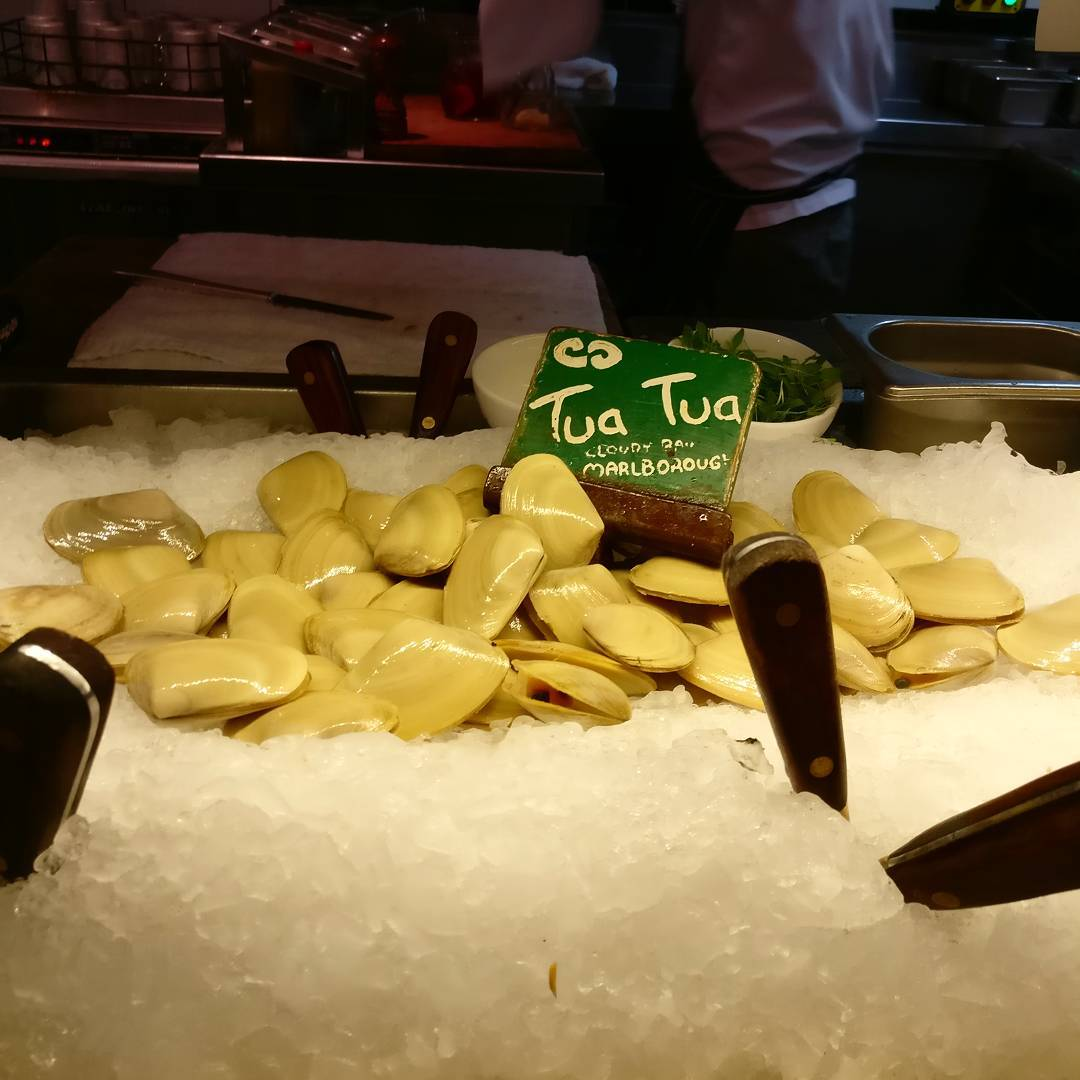tuatua: (346, 615, 515, 746), (124, 634, 311, 729), (40, 478, 205, 568), (440, 513, 550, 634), (221, 685, 411, 750), (501, 453, 608, 563), (824, 540, 918, 656), (894, 551, 1033, 629), (370, 480, 466, 584), (583, 599, 697, 682), (508, 647, 629, 725), (528, 561, 638, 641), (122, 563, 242, 636), (887, 622, 1007, 691), (276, 506, 378, 587), (787, 465, 881, 544), (257, 449, 346, 532), (224, 568, 319, 643), (1000, 595, 1080, 681), (690, 625, 760, 716), (81, 540, 186, 599), (853, 515, 970, 567), (632, 546, 726, 609)
